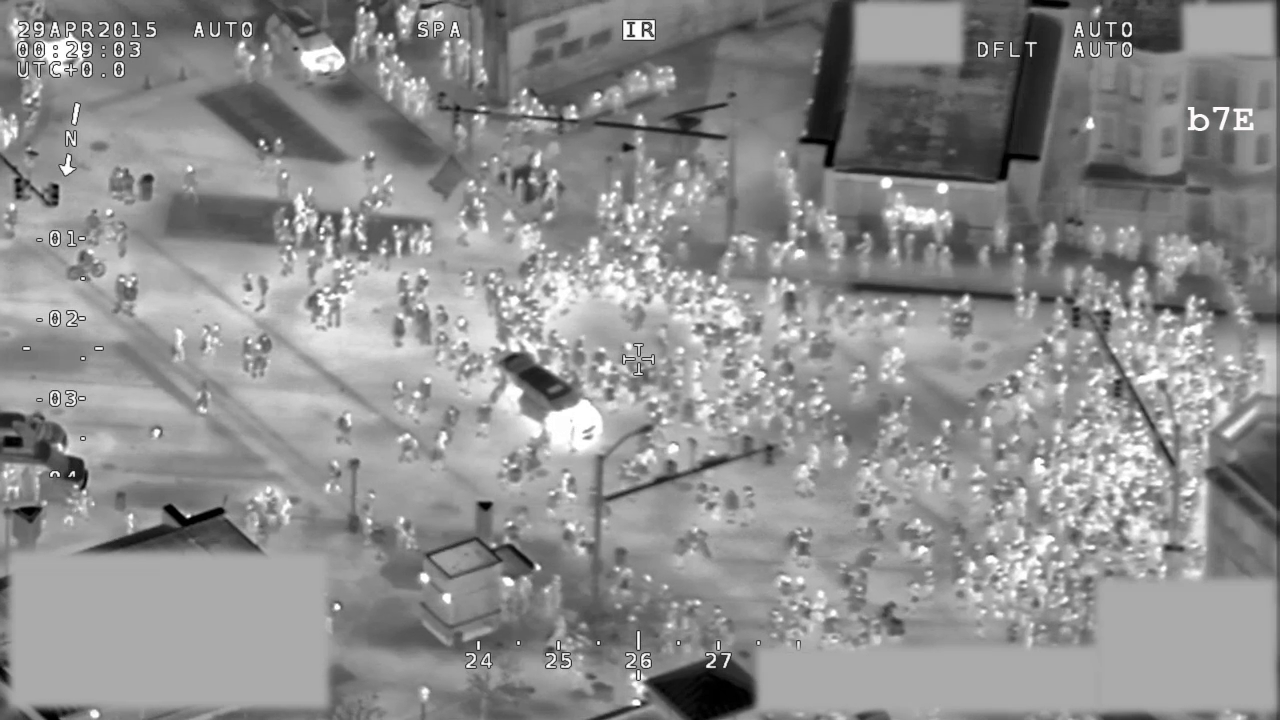vehicle: (478, 342, 610, 459), (256, 6, 356, 93), (1, 1, 89, 82)
